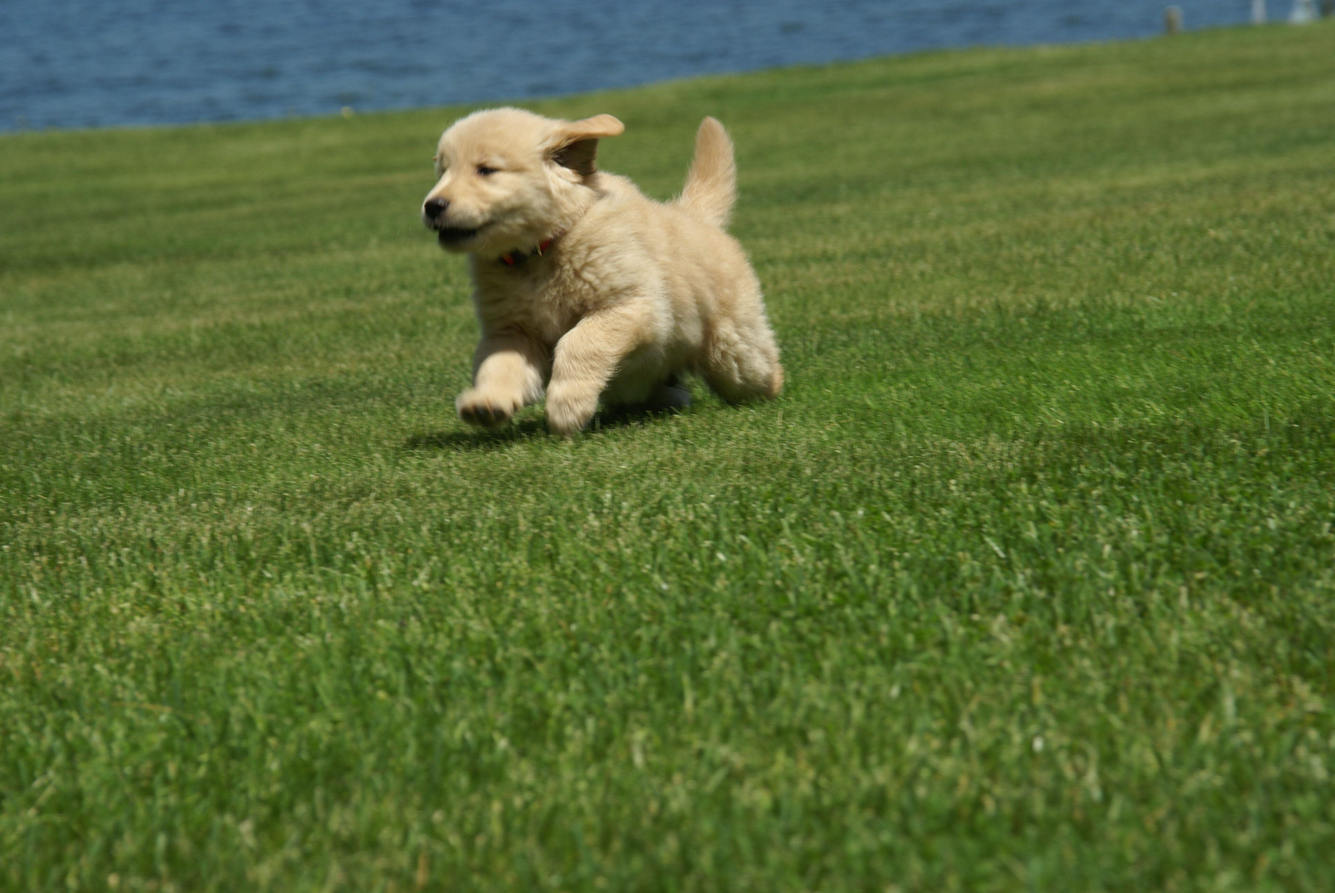puppy-dog: (421, 106, 784, 439)
